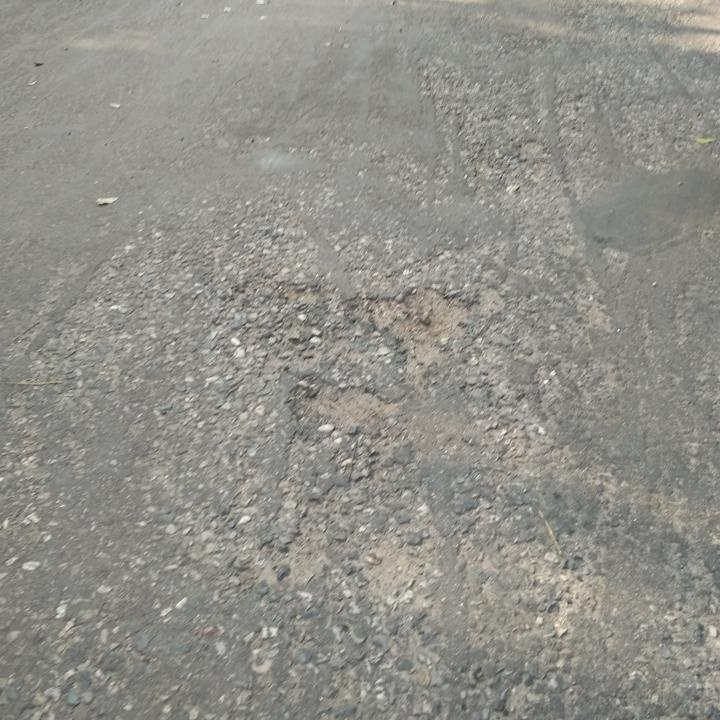pothole: (369, 284, 473, 374), (294, 377, 392, 431)
